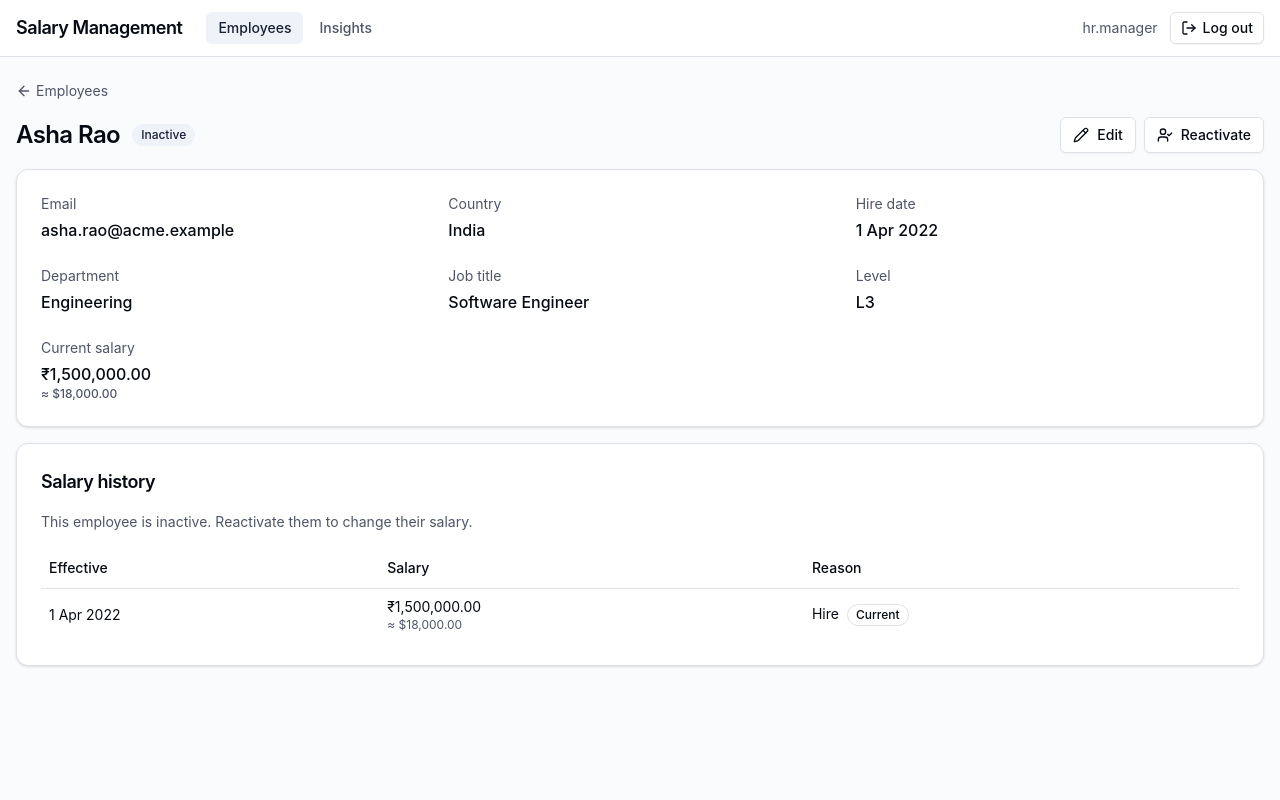
Test: deactivating and reactivating › reactivates an inactive employee after confirmation
This screenshot has width=1280, height=800.
Check: the text "Inactive" is shown, box [132, 124, 195, 146]
Click the button "Reactivate".
click(1204, 135)  # box [1144, 117, 1264, 153]
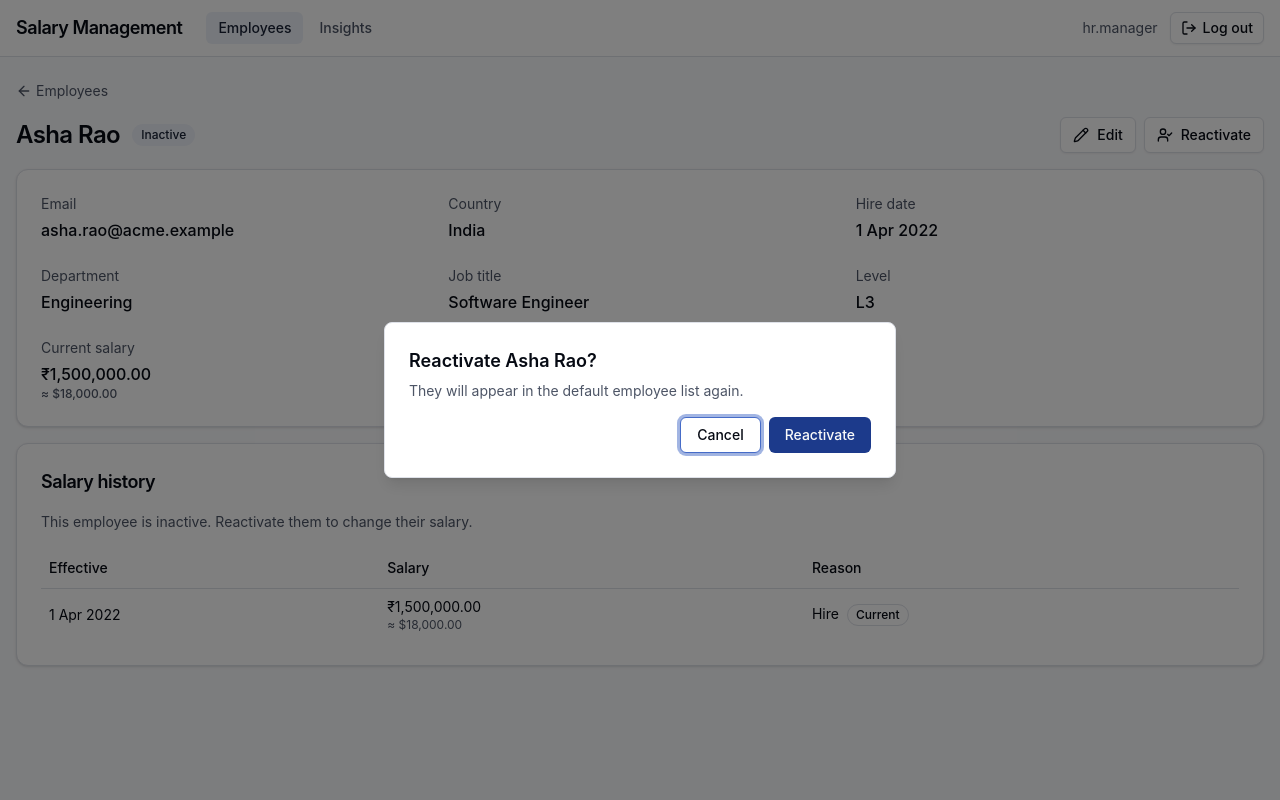
Check: the dialog shows "Reactivate Asha Rao?", box [409, 350, 597, 371]
Click the button "Reactivate".
click(820, 435)  # box [769, 417, 871, 453]
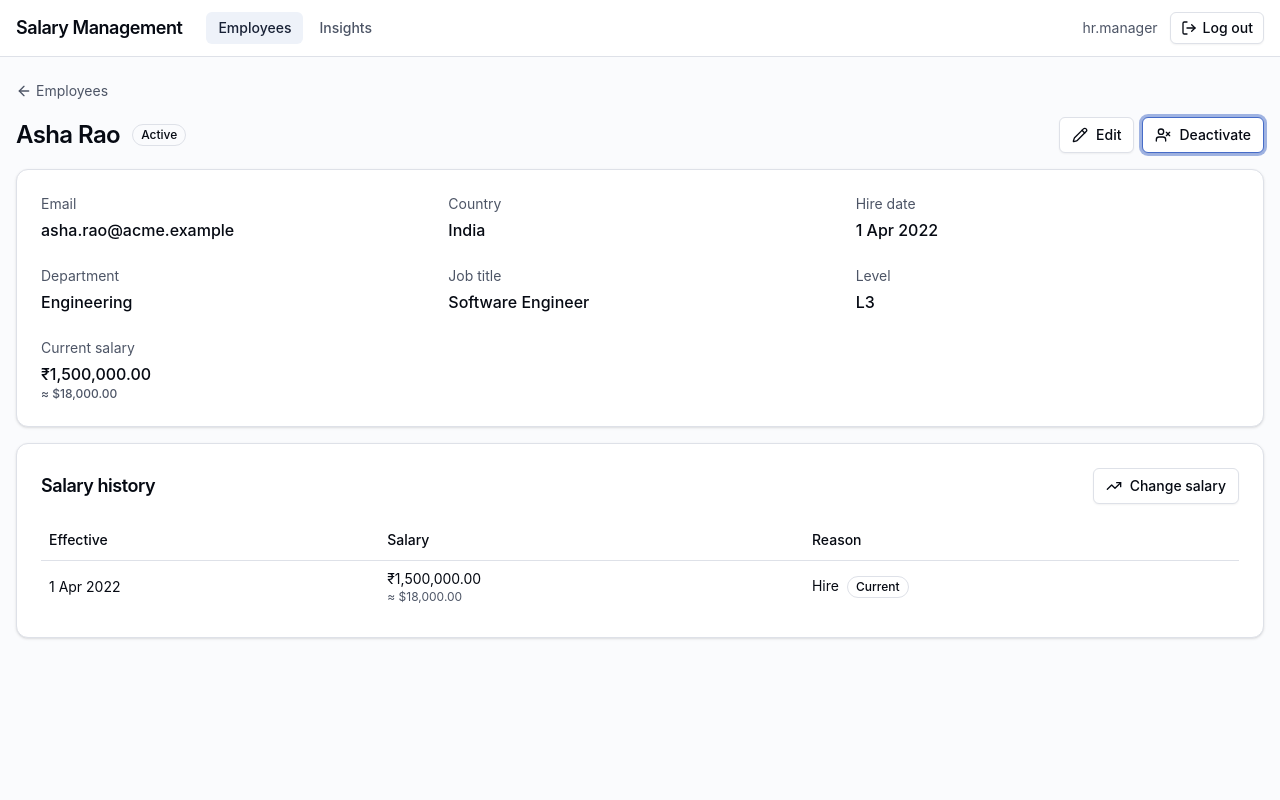
Check: the button "Deactivate" is shown, box [1142, 117, 1264, 153]
